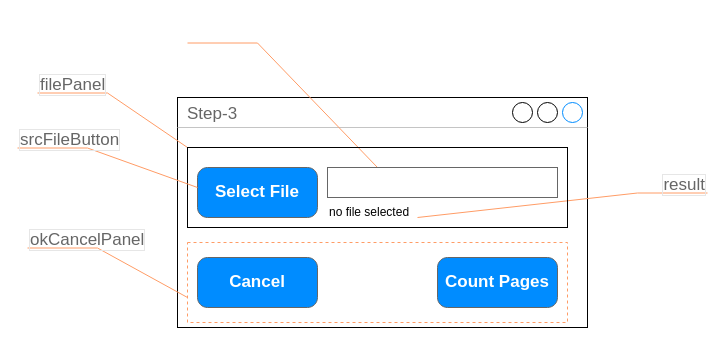
Some shapes in this 725 by 345 pixel diagram are drawn without their labels. Here are the shapes that lost their labels. From the top down, the centre of each, then its label:
At point 282,92: "fileInput".
At point 442,182: "filename entry field".
